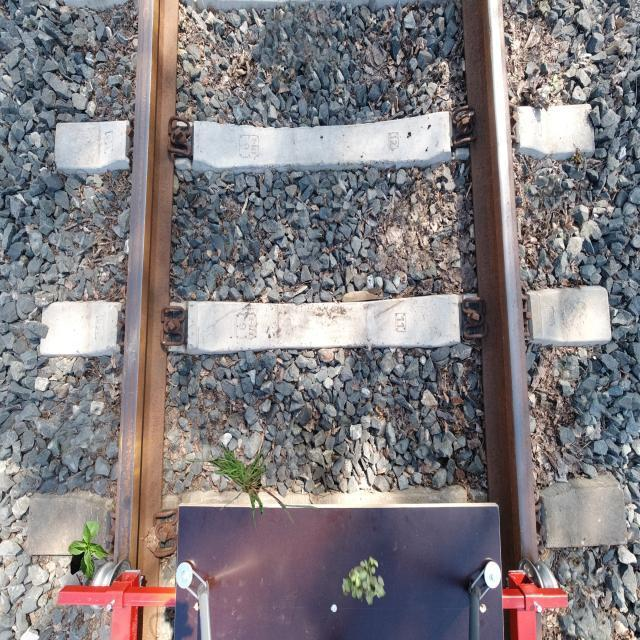Plant: (174, 442, 318, 532), (68, 521, 110, 581), (342, 556, 386, 606)
